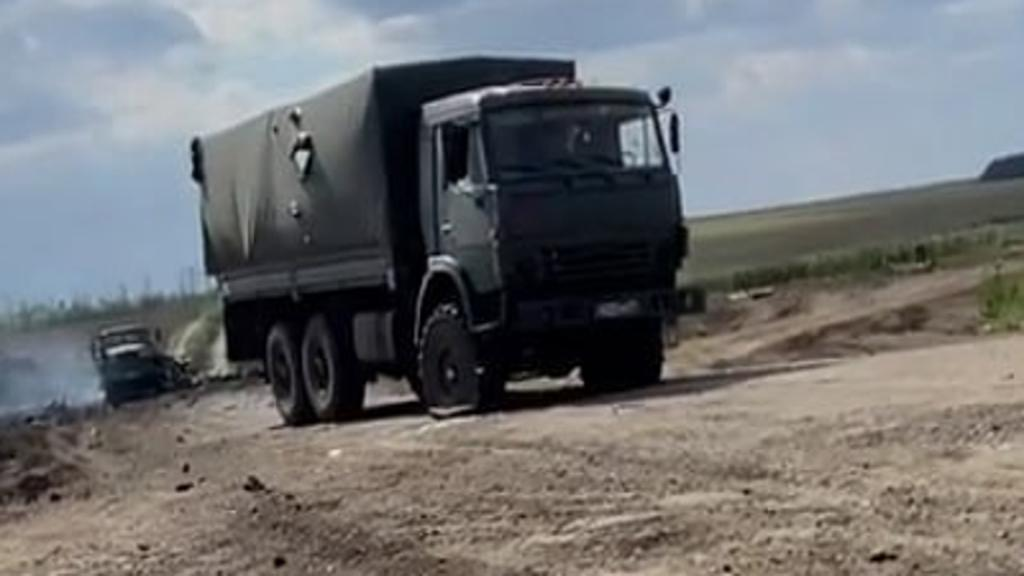TRUCK: (188, 53, 688, 422), (86, 324, 168, 400)
